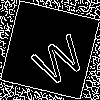W: (25, 25, 90, 89)
